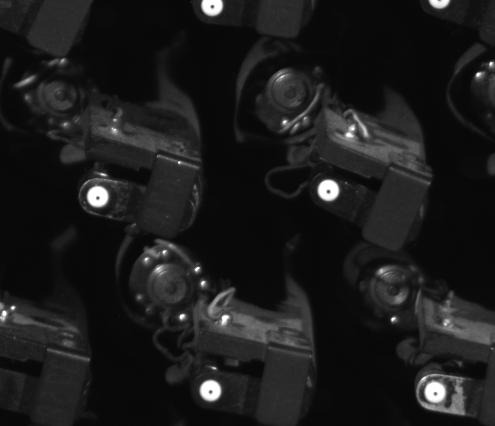fiber: (195, 375, 228, 407), (421, 377, 451, 407), (83, 181, 113, 210), (315, 177, 345, 205), (197, 1, 228, 21), (423, 1, 458, 14)
